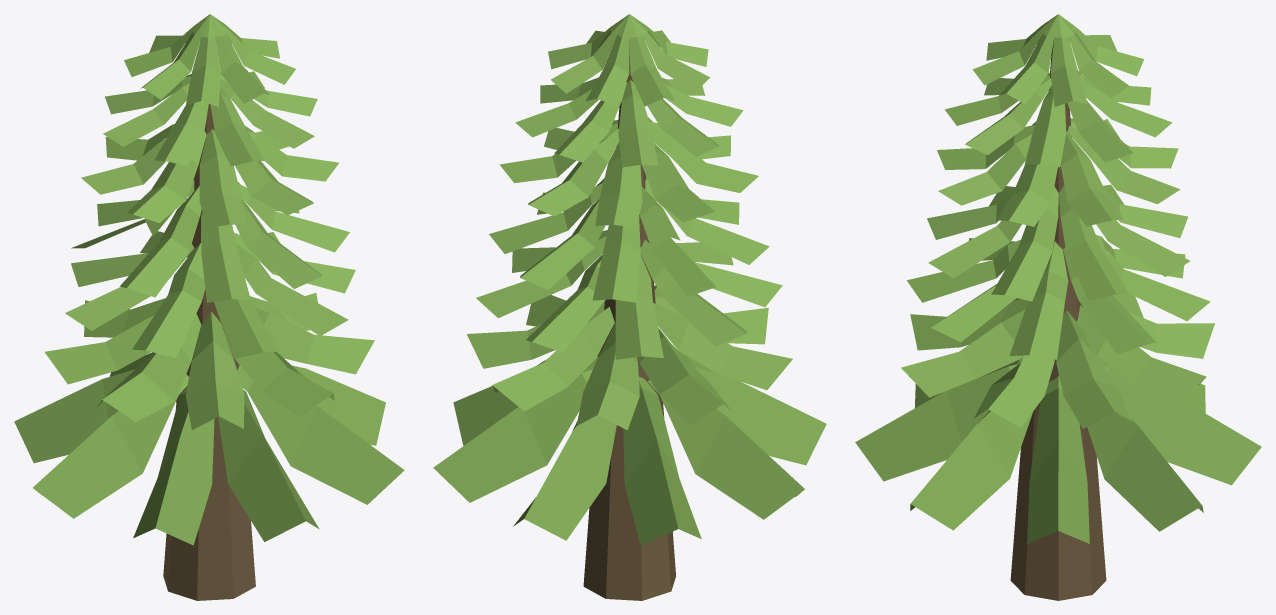
The model's file is tree.fbx.
The picture shows the model from 3 angles, left to right: view 1: azimuth 30°, elevation 25°; view 2: azimuth 150°, elevation 25°; view 3: azimuth 270°, elevation 25°; orthographic projection.
Visible parts, largest first — view 1: Fir-tree; view 2: Fir-tree; view 3: Fir-tree.
Part boxes in pixels (x1,y1,x2,y2): Fir-tree: [14, 14, 404, 600]; Fir-tree: [433, 14, 826, 600]; Fir-tree: [855, 14, 1261, 600].
Size of the model in its own units: 470 by 722 by 469.
